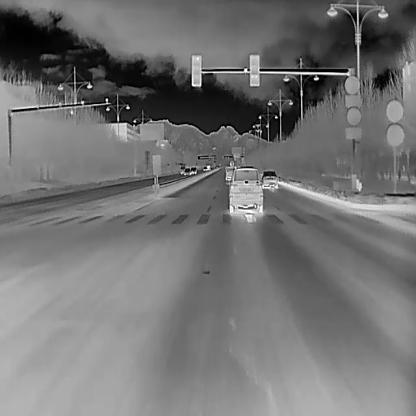car: (228, 166, 263, 214), (261, 170, 278, 188), (225, 166, 236, 181), (178, 162, 185, 173), (183, 167, 190, 175), (189, 166, 196, 174), (228, 160, 235, 167), (206, 163, 211, 170), (202, 165, 207, 171)
